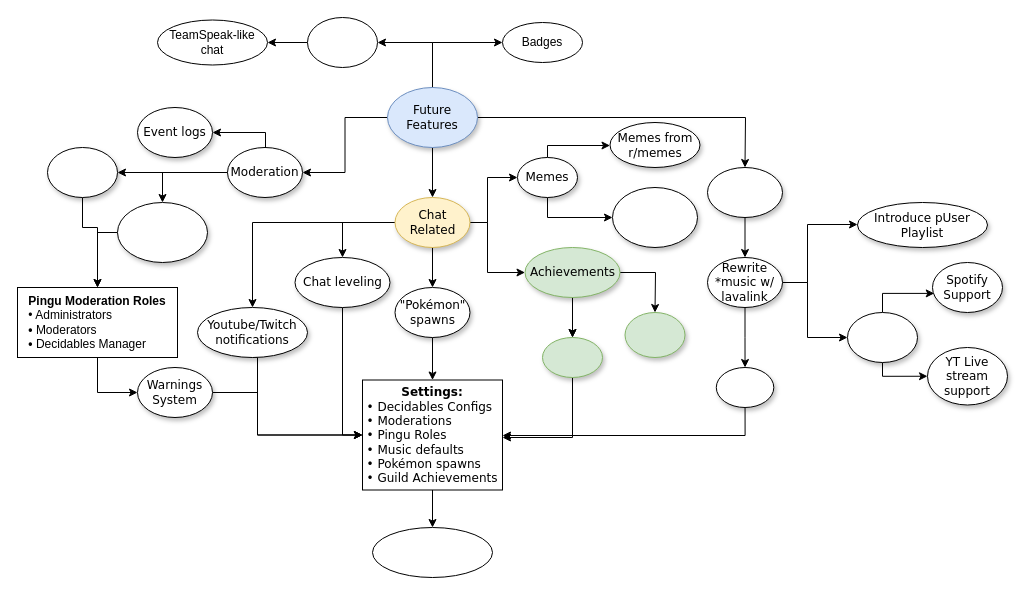
Some shapes in this 1031 by 595 pixel diagram are drawn without their labels. Each missing label, with the centre of its shape:
"Basic moderation commands" belongs at point 163,234.
"Bonus Features" belongs at point 883,339.
"Chat censor" belongs at point 83,173.
"DJ Role" belongs at point 745,388.
"Guild" belongs at point 573,358.
"Music" belongs at point 745,193.
"OG Dank Memer images" belongs at point 656,218.
"Pingu Dashboard" belongs at point 432,552.
"User" belongs at point 655,336.
"Voice" belongs at point 342,42.
